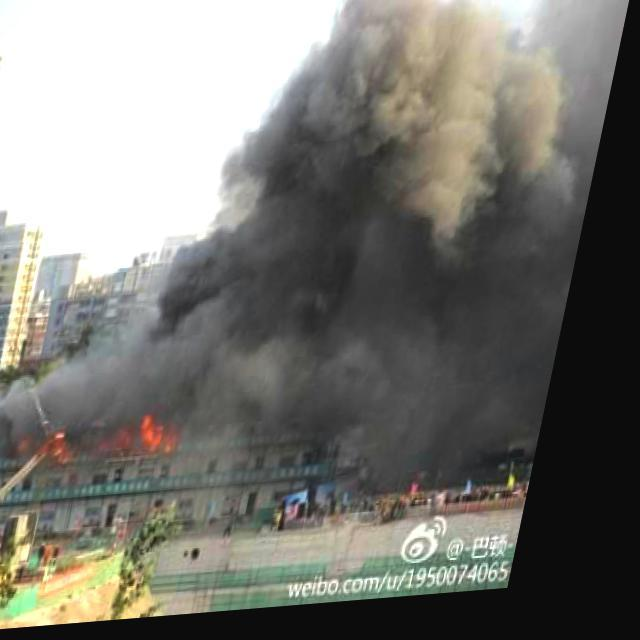Fire: (66, 413, 202, 472)
